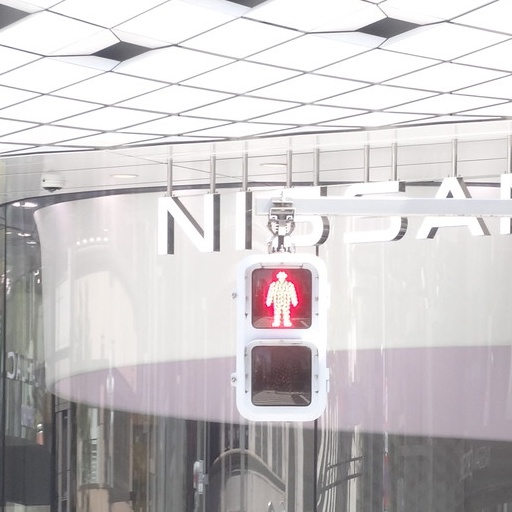Pedestrian_Signal_Red: (241, 252, 320, 412)
